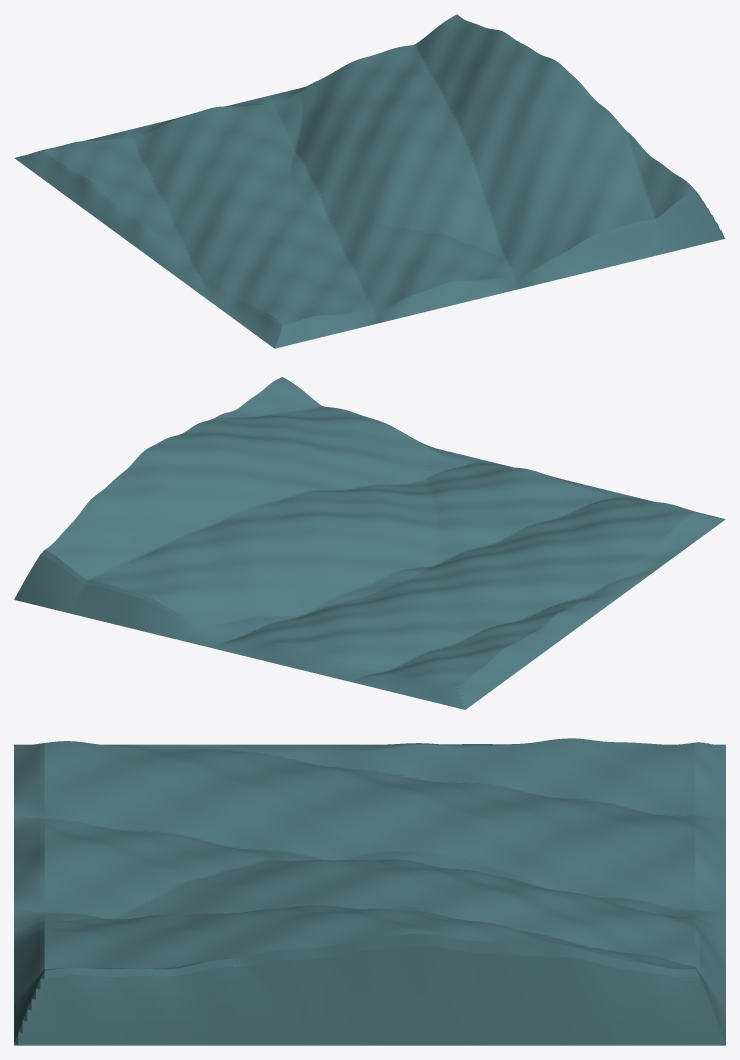
The model's file is sapphire_tidepool_cliffs.obj.
The picture shows the model from 3 angles, top to bottom: view 1: azimuth 30°, elevation 25°; view 2: azimuth 150°, elevation 25°; view 3: azimuth 270°, elevation 25°; orthographic projection. The views are drawn at different scales.
Visible parts, largest first — view 1: sapphire_tidepool_cliffs; view 2: sapphire_tidepool_cliffs; view 3: sapphire_tidepool_cliffs.
Part boxes in pixels (left/top/right/bottom): sapphire_tidepool_cliffs: left=14, top=14, right=725, bottom=348; sapphire_tidepool_cliffs: left=14, top=377, right=725, bottom=709; sapphire_tidepool_cliffs: left=14, top=738, right=725, bottom=1045.
Size of the model in its own units: 160 by 25.42 by 160.
